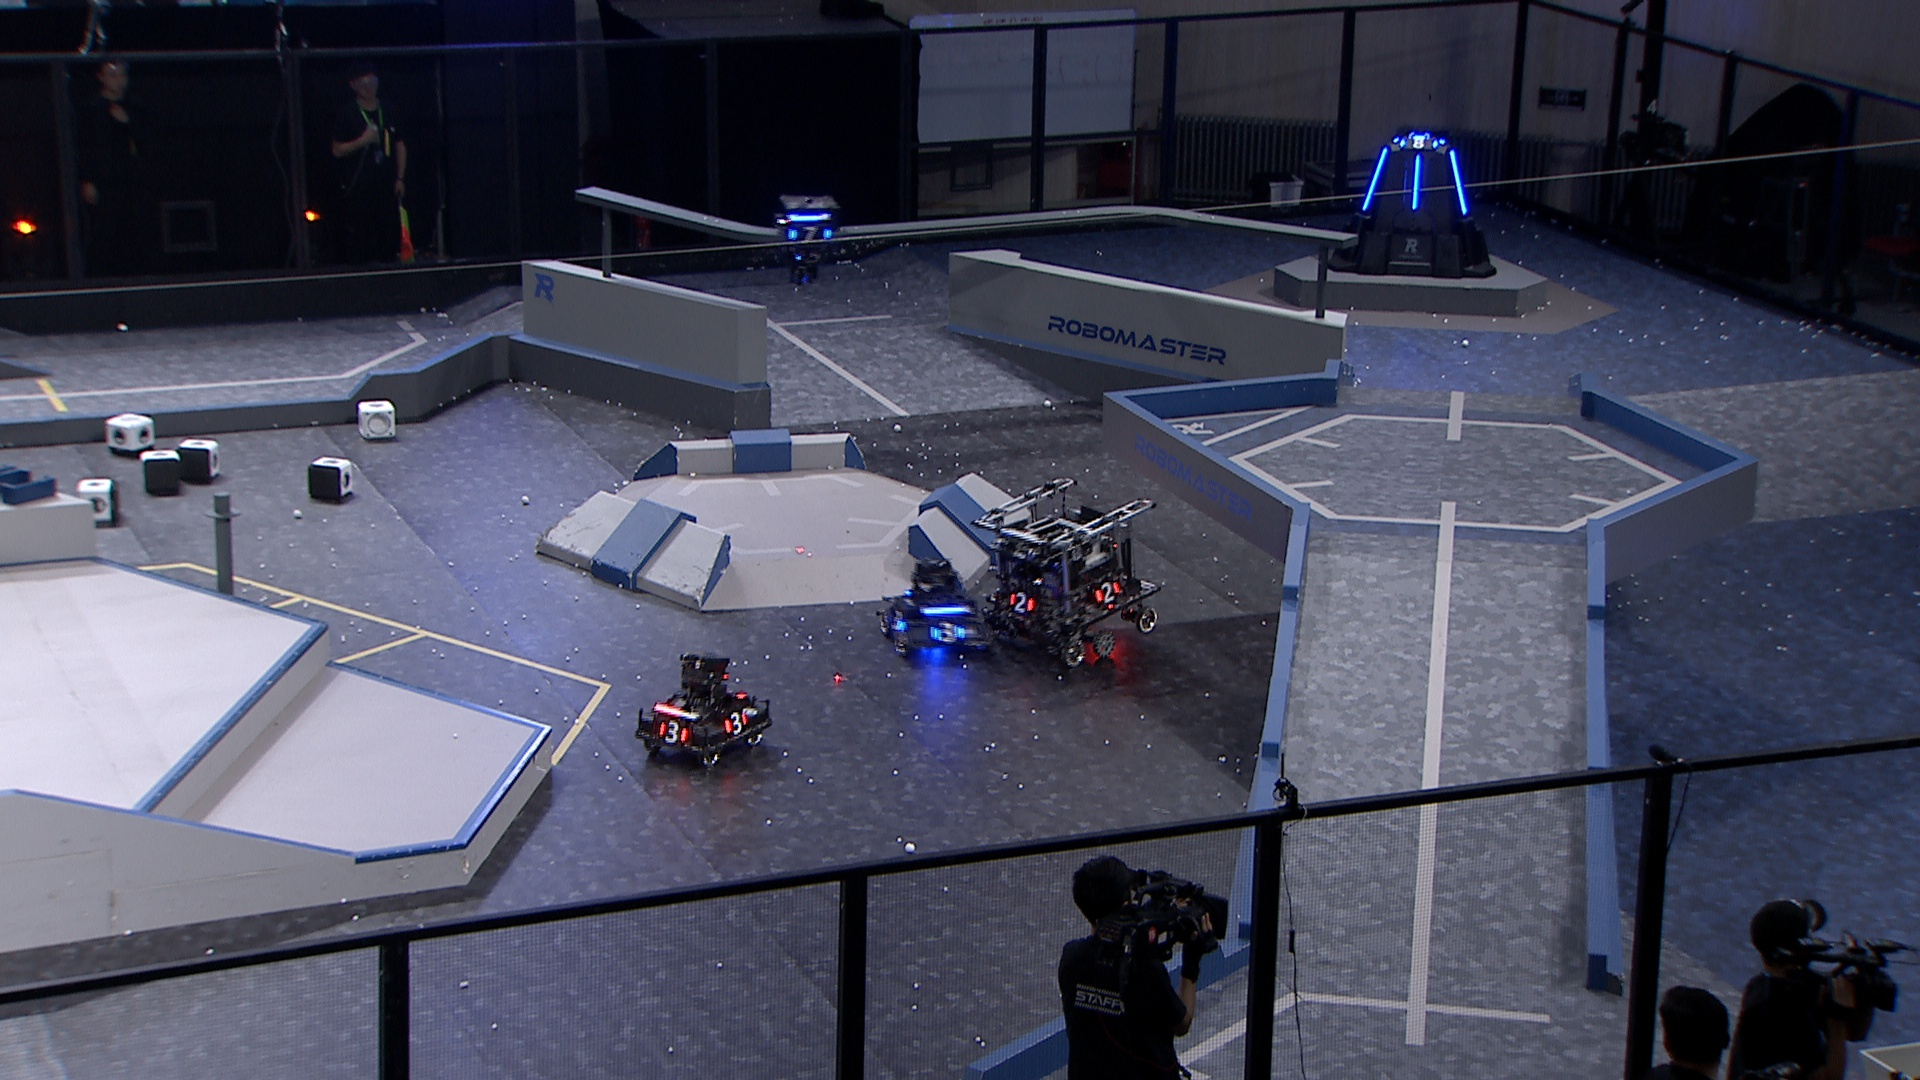armor: (1357, 146, 1393, 214), (1447, 149, 1470, 216), (1394, 131, 1439, 153), (785, 225, 837, 244), (927, 622, 967, 645), (1408, 152, 1423, 211), (1092, 580, 1122, 607), (1006, 589, 1038, 615), (723, 708, 750, 736), (655, 721, 686, 746), (885, 607, 905, 636)
base: (1325, 127, 1501, 281)
car: (978, 477, 1160, 670), (633, 651, 774, 769), (874, 555, 992, 659)
watcher: (774, 191, 843, 285)
